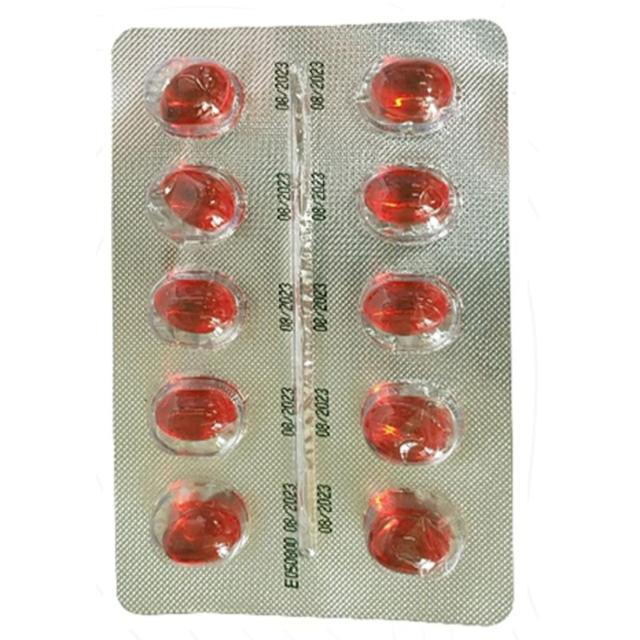blister: (99, 11, 526, 634)
